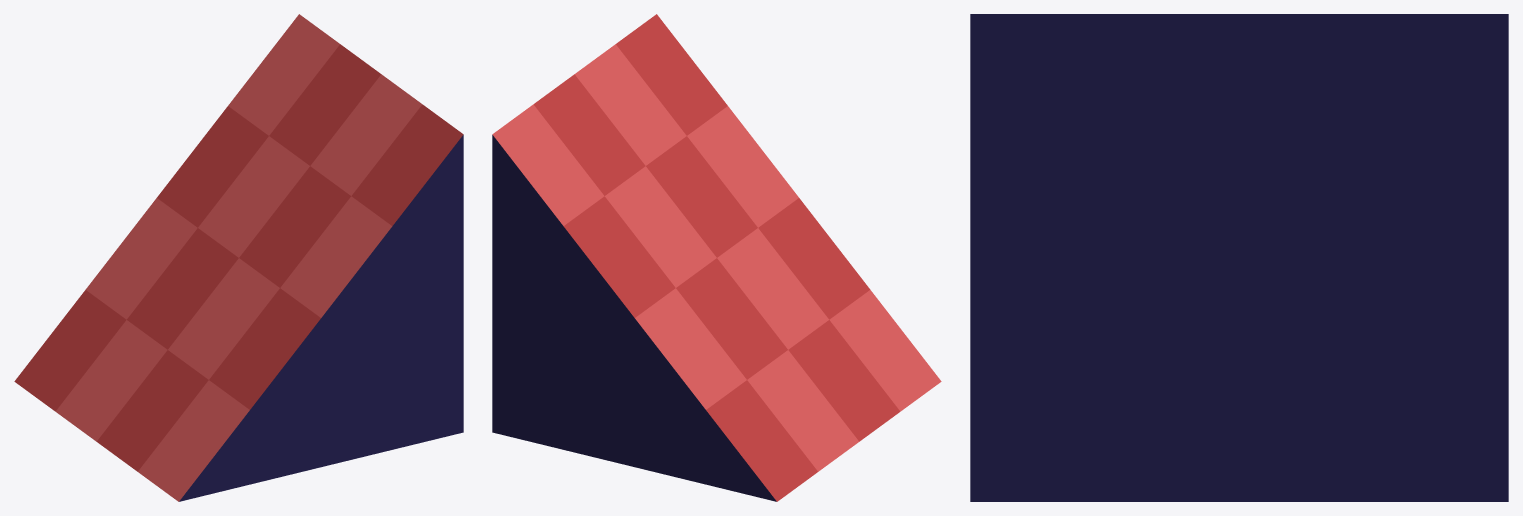
The model's file is ramp_red.glb.
3 views of the same model, side by side, from view 1: azimuth 30°, elevation 25°; view 2: azimuth 150°, elevation 25°; view 3: azimuth 270°, elevation 25° (orthographic). The views are drawn at different scales.
Visible parts, largest first — view 1: Body; view 2: Body; view 3: Body.
Boxes of the visible parts, x1,y1,x2,y2 form: Body: (14,14,463,501); Body: (492,14,941,501); Body: (970,14,1508,501).
Bounding box in the file's own units: 1 × 1 × 1.
